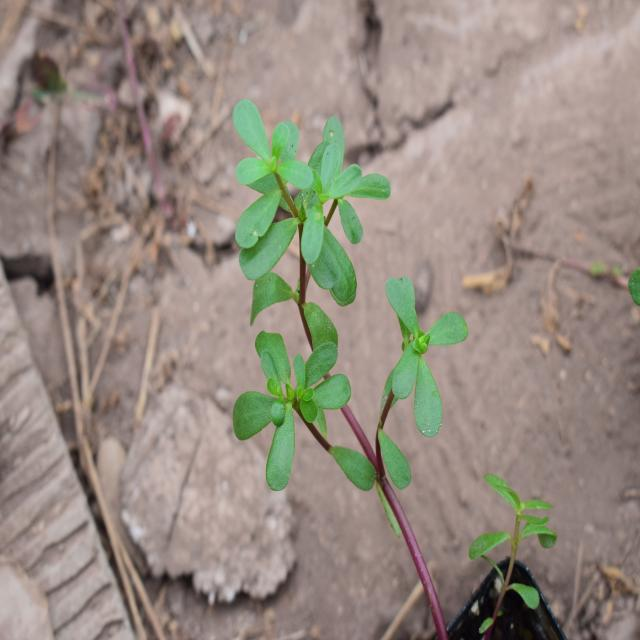purslane: (226, 92, 479, 525)
